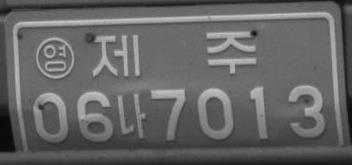0: (195, 86, 234, 141), (32, 90, 70, 145)
1: (243, 85, 280, 140)
3: (287, 84, 326, 139)
6: (75, 90, 115, 143)
7: (148, 88, 187, 142)
나: (115, 90, 145, 139)
영: (34, 36, 75, 79)
제주_D: (88, 29, 257, 78)
